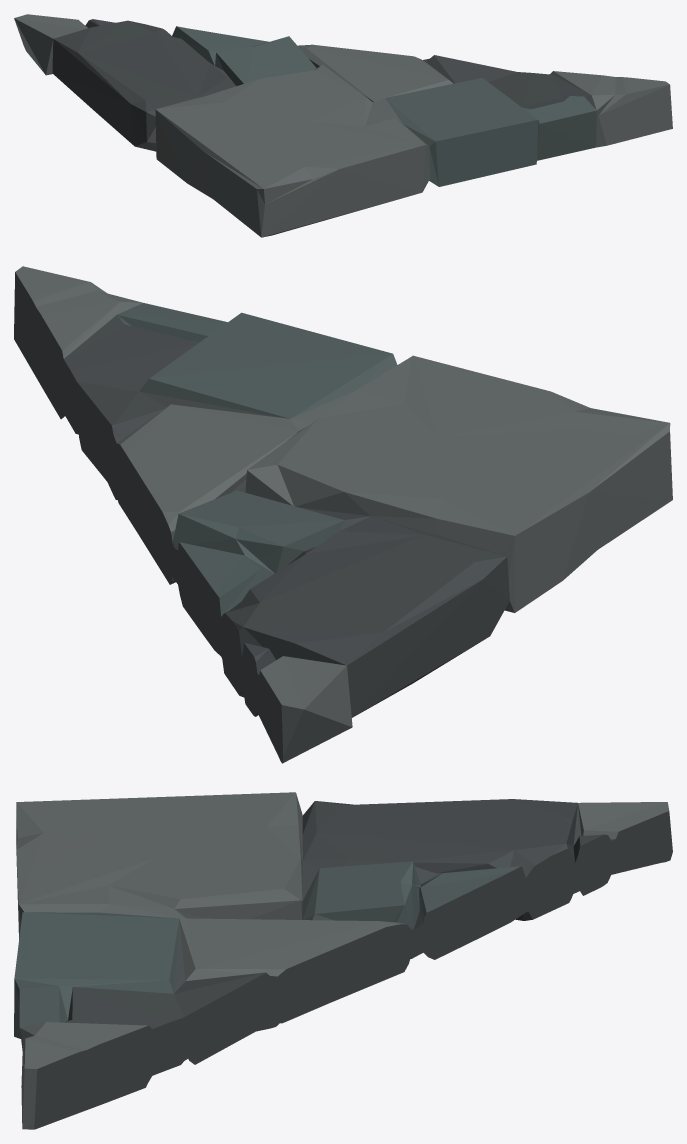
File: MDungenon_StoneFloor_Tri.FBX
The picture shows the model from 3 angles, top to bottom: view 1: azimuth 30°, elevation 25°; view 2: azimuth 150°, elevation 25°; view 3: azimuth 270°, elevation 25°; orthographic projection. The views are drawn at different scales.
Visible parts, largest first — view 1: MDungenon_StoneFloor_Tri_LOD0; view 2: MDungenon_StoneFloor_Tri_LOD0; view 3: MDungenon_StoneFloor_Tri_LOD0.
Part boxes in pixels (<box>): MDungenon_StoneFloor_Tri_LOD0: <box>14,14,672,237</box>; MDungenon_StoneFloor_Tri_LOD0: <box>14,266,672,763</box>; MDungenon_StoneFloor_Tri_LOD0: <box>14,792,672,1129</box>.
Size of what is drawn, in the model's own units: 5.94 by 0.7972 by 5.99.
